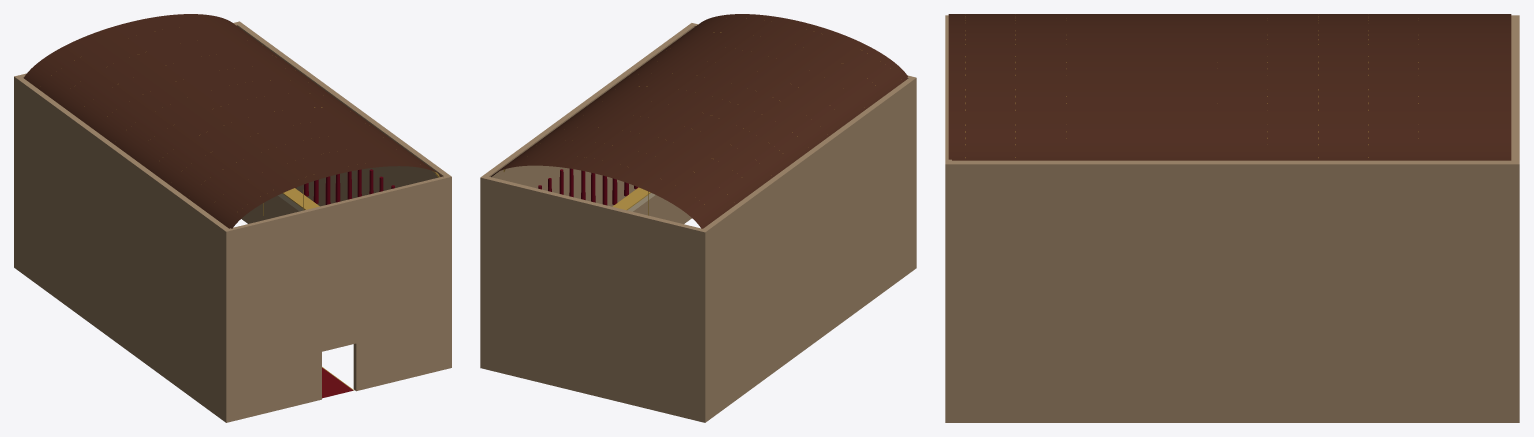
The model's file is halloween.glb.
3 renders of one model, left to right at view 1: azimuth 30°, elevation 25°; view 2: azimuth 150°, elevation 25°; view 3: azimuth 270°, elevation 25°, orthographic. The views are drawn at different scales.
Parts seen in each view (by area): view 1: baked; view 2: baked; view 3: baked.
Boxes of the visible parts, bbox=[...] form: baked: bbox=[14, 14, 451, 422]; baked: bbox=[480, 14, 916, 422]; baked: bbox=[945, 14, 1519, 422].
Size of the model in its own units: 42 by 39.21 by 68.4.
